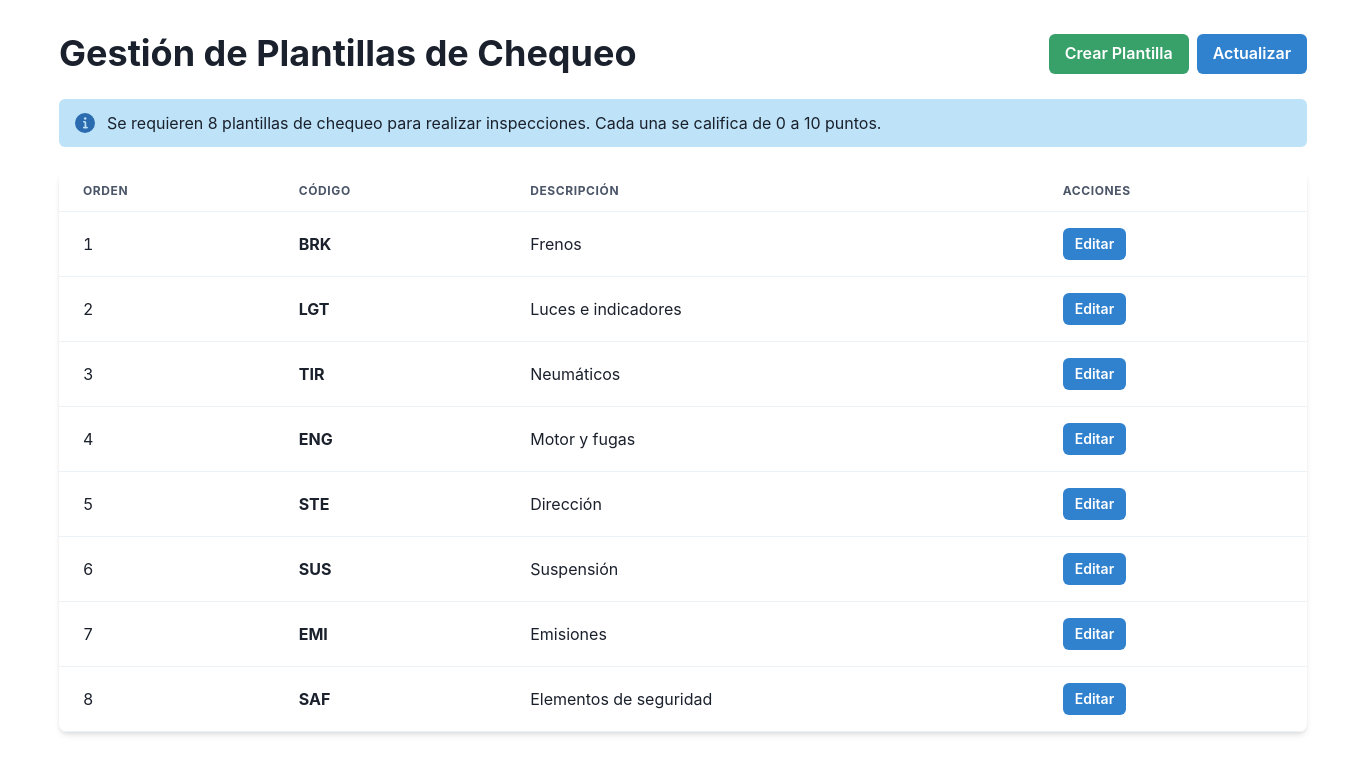
Test: CheckItemManagementPage › edit template › should open edit modal when clicking edit button
Expected: the text "BRK" is shown, left=275, top=212, right=506, bottom=277
Click the button "Editar" in the row of "BRK": (1094, 244) left=1063, top=228, right=1126, bottom=260
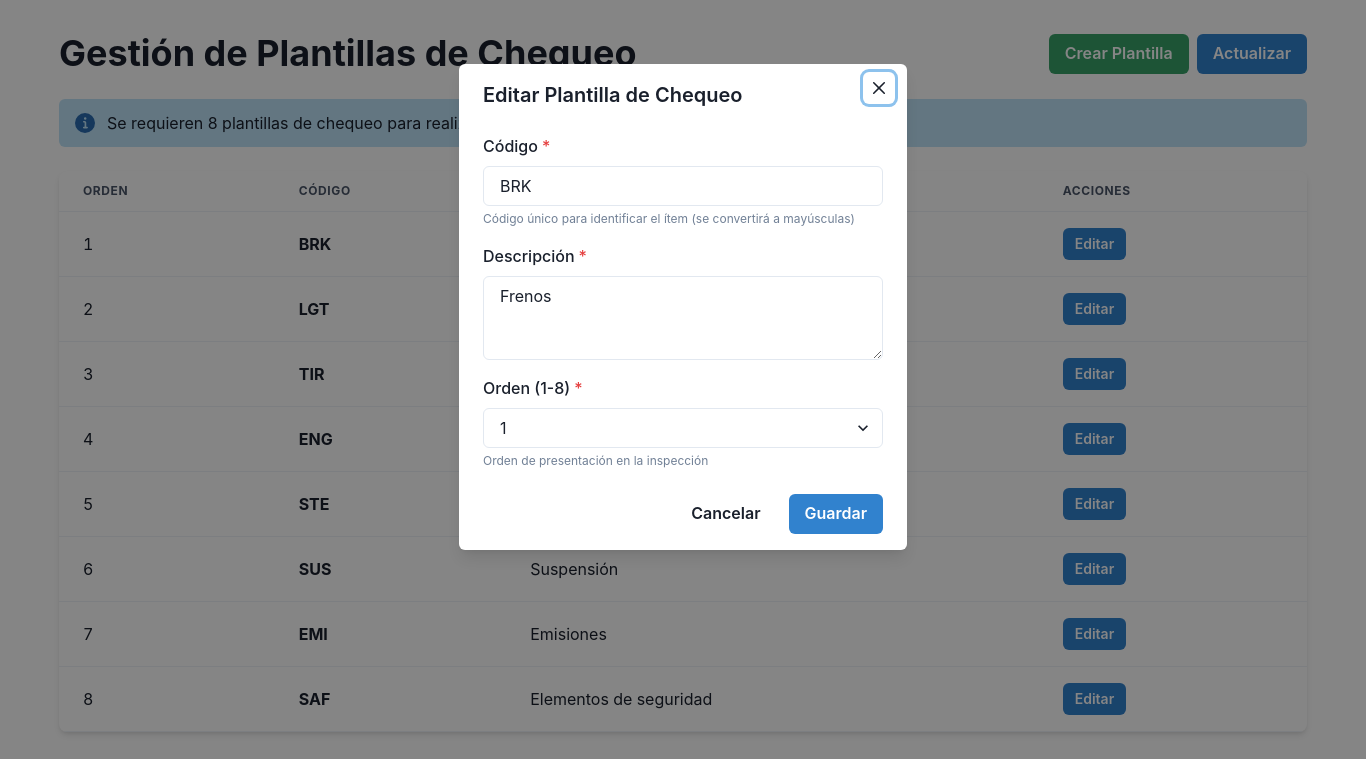
Expected: the text "Editar Plantilla de Chequeo" is shown, left=483, top=83, right=742, bottom=107
Expected: the field showing "BRK" is shown, left=483, top=166, right=883, bottom=206
Expected: the text box showing "Frenos" is shown, left=483, top=276, right=883, bottom=360
